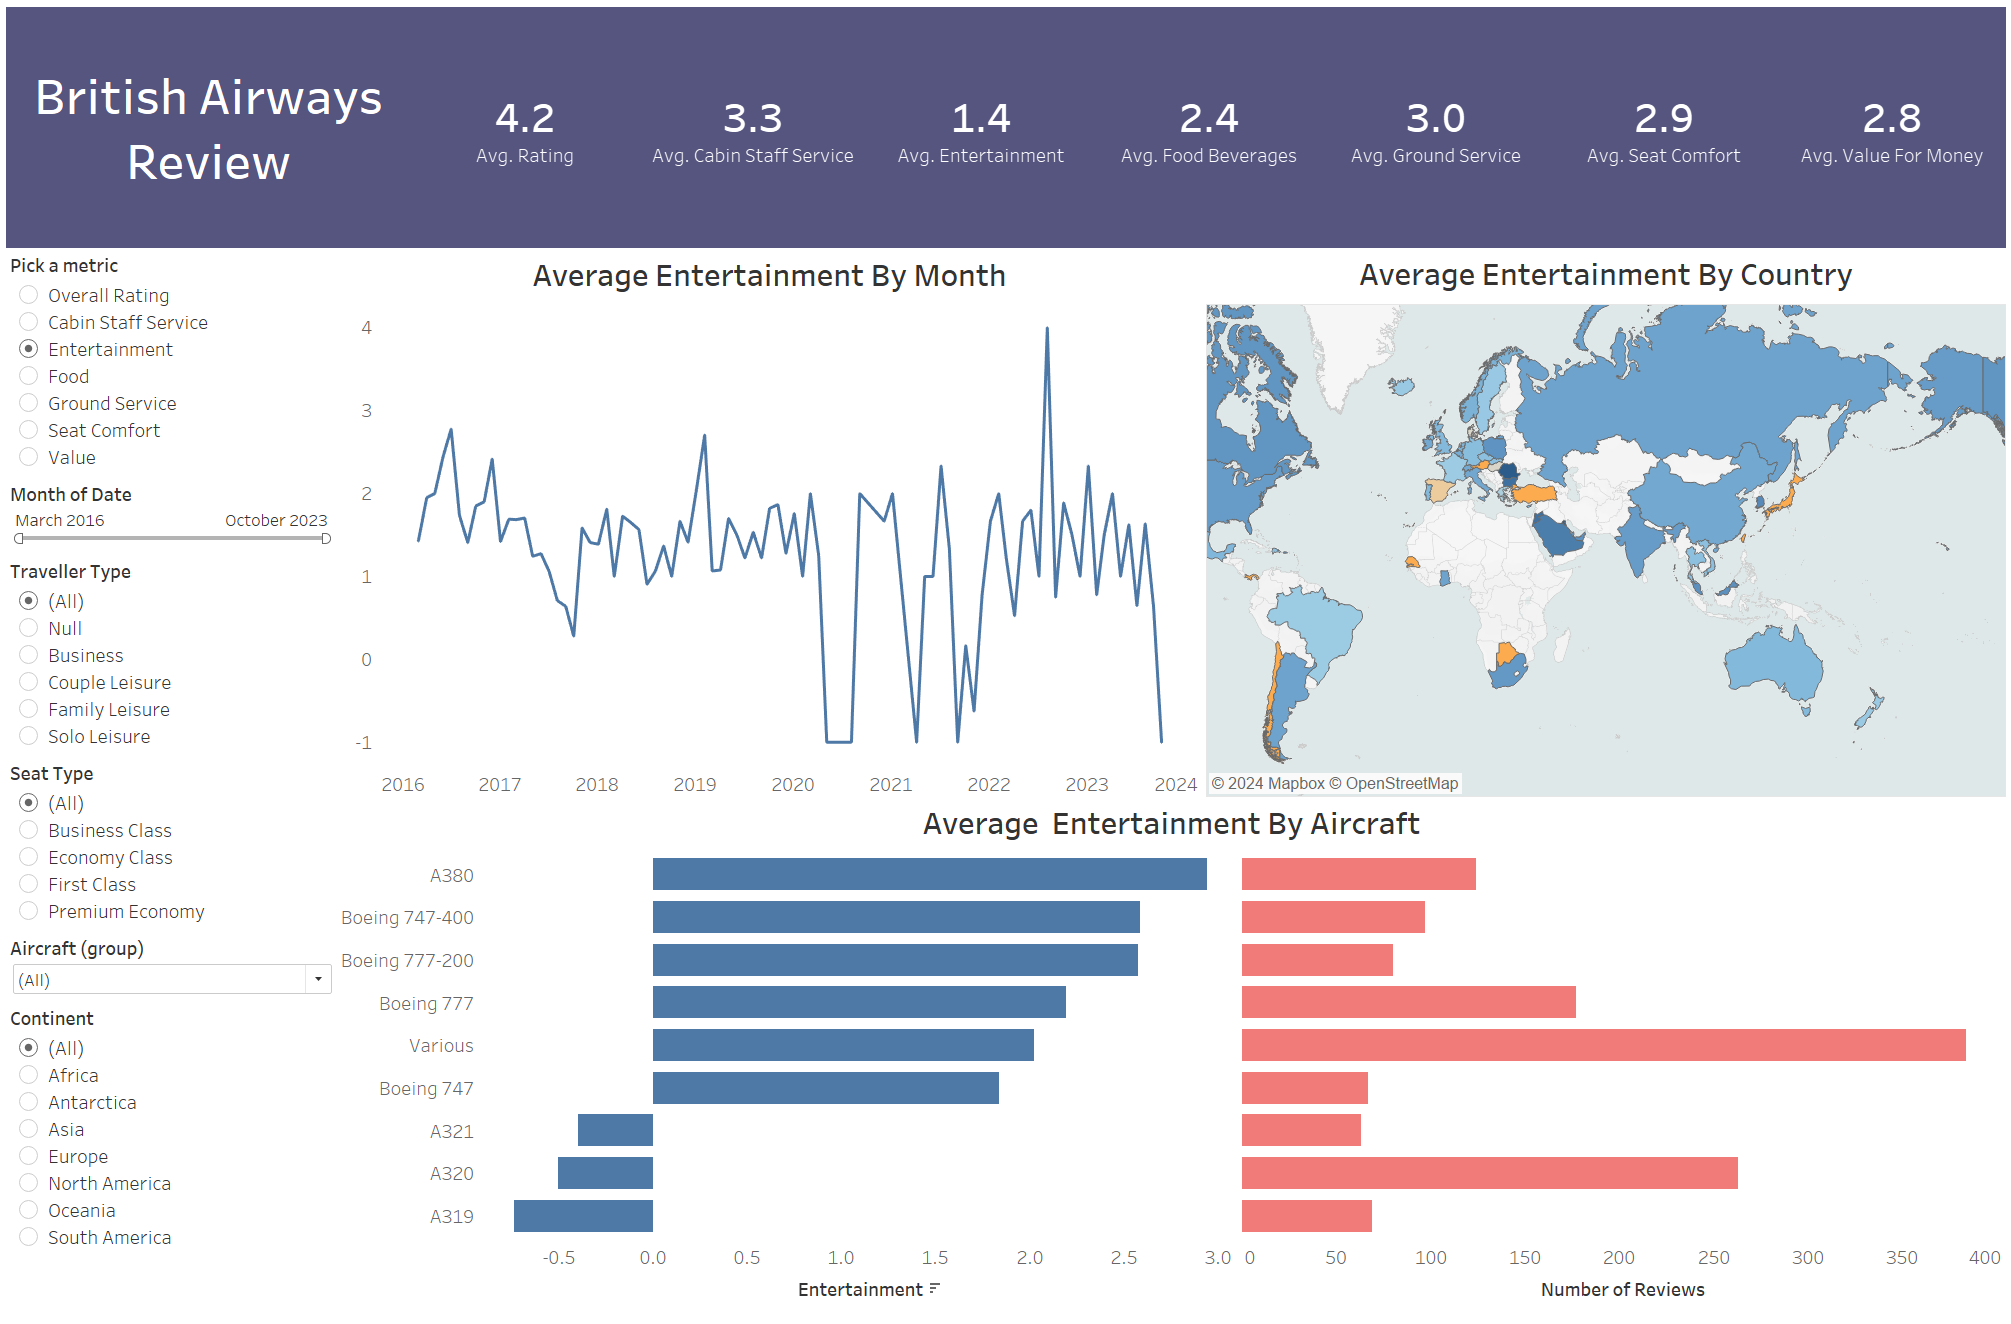

What the dashboard file says about the page in this screenshot:
{"tool":"tableau","page":{"name":"Dashboard 1","canvas":[2000,1300],"ordinal":0},"visuals":[{"type":"text","box":[0,0,405,241.4]},{"type":"worksheet","title":"Summary","mark":"Automatic","box":[405,0,1595,241.4]},{"type":"worksheet","title":"Map","mark":"Automatic","box":[1200,240.5,800,549.2]},{"type":"parameter","param":"[Parameters].[Parameter 1]","box":[0,241.4,333.3,229]},{"type":"worksheet","title":"Month","mark":"Automatic","rows":["Calculation_2164824101513883648"],"cols":["date"],"box":[333,241.6,861,547.1]},{"type":"filter","title":"Map","param":"[federated.0cbydtf1mra1tz18g4dsa1sxywft].[tmn:date:qk]","box":[0,470.4,333.3,77]},{"type":"filter","title":"Map","param":"[federated.0cbydtf1mra1tz18g4dsa1sxywft].[none:traveller_type:nk]","box":[0,547.4,333.3,202]},{"type":"filter","title":"Map","param":"[federated.0cbydtf1mra1tz18g4dsa1sxywft].[none:seat_type:nk]","box":[0,749.4,333.3,175]},{"type":"worksheet","title":"Aircraft","mark":"Automatic","cols":["Calculation_2164824101513883648","ba_reviews.csv_ACCB6690095244A0837AC91DF6F37681"],"box":[333,789.8,1665,511.3]},{"type":"filter","title":"Map","param":"[federated.0cbydtf1mra1tz18g4dsa1sxywft].[Aircraft (group)]","box":[0,924.4,333.3,70]},{"type":"filter","title":"Map","param":"[federated.0cbydtf1mra1tz18g4dsa1sxywft].[none:Continent:nk]","box":[0,994.4,333.3,256]}]}

Visuals, with their boxes in screenshot pixels (x1, y1, x2, y2), scaled from the page's 2000x1300 canvas onto the 2011x1324 screenshot:
text: <bbox>0, 0, 407, 246</bbox>
"Summary" worksheet: <bbox>407, 0, 2010, 246</bbox>
"Map" worksheet: <bbox>1207, 245, 2010, 804</bbox>
parameter: <bbox>0, 246, 335, 479</bbox>
"Month" worksheet: <bbox>335, 246, 1201, 803</bbox>
"Map" filter: <bbox>0, 479, 335, 558</bbox>
"Map" filter: <bbox>0, 558, 335, 763</bbox>
"Map" filter: <bbox>0, 763, 335, 941</bbox>
"Aircraft" worksheet: <bbox>335, 804, 2009, 1323</bbox>
"Map" filter: <bbox>0, 941, 335, 1013</bbox>
"Map" filter: <bbox>0, 1013, 335, 1273</bbox>
